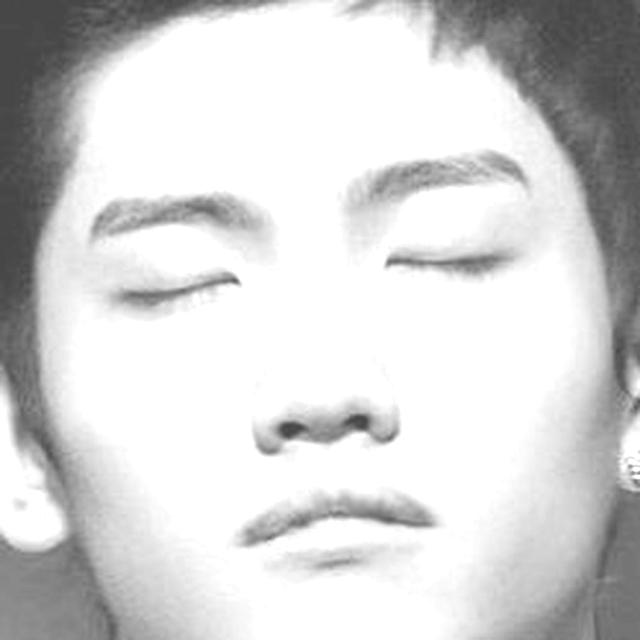real: (21, 4, 634, 640), (90, 184, 539, 340)
